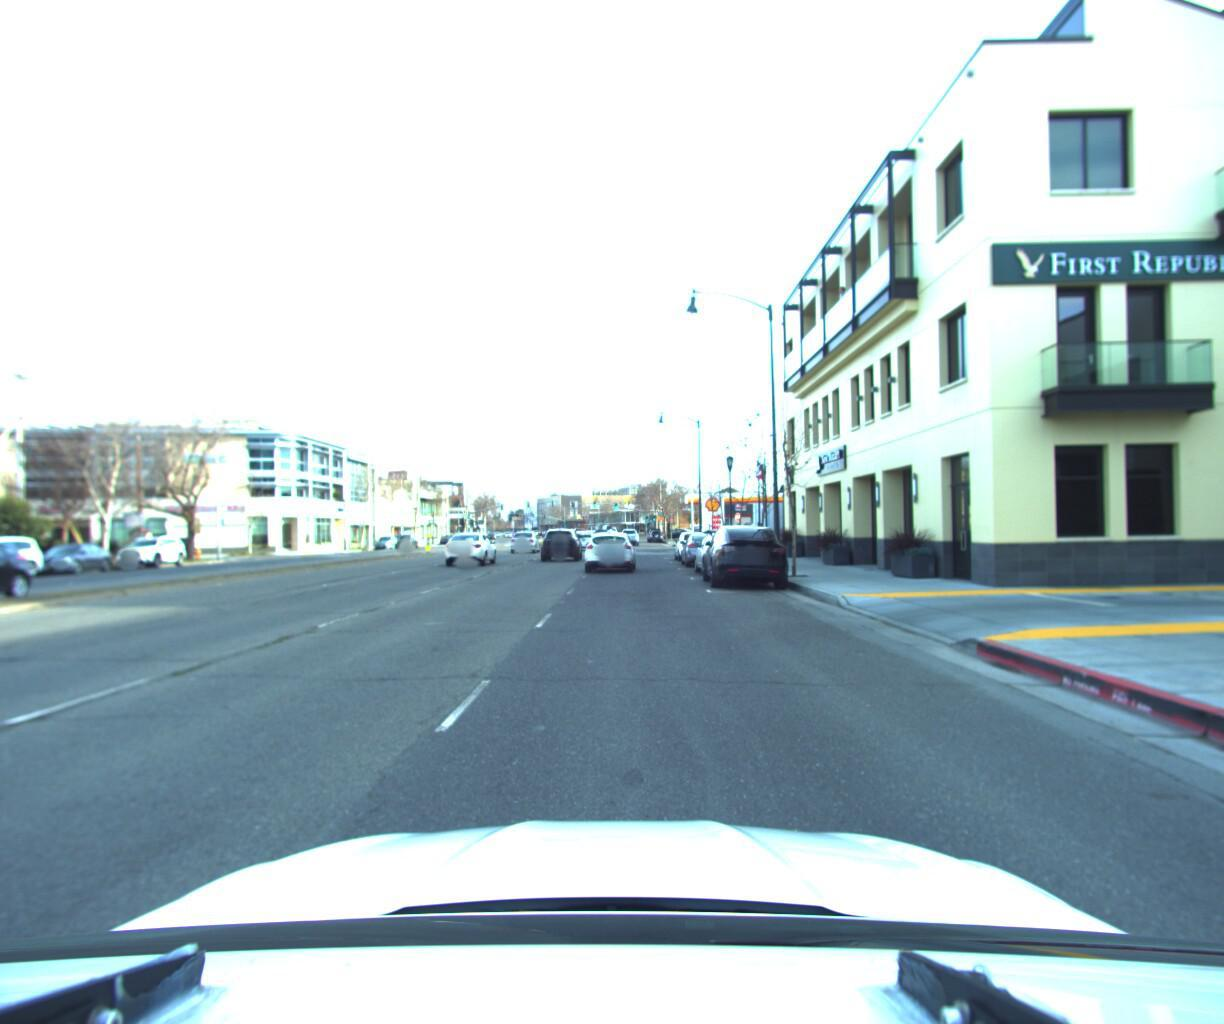car: (703, 518, 792, 585), (23, 539, 123, 577), (694, 521, 760, 573), (111, 531, 193, 568), (582, 525, 636, 569), (441, 524, 499, 563), (681, 527, 728, 563), (539, 520, 583, 558), (673, 525, 712, 557), (508, 530, 542, 550), (390, 531, 418, 547), (619, 524, 640, 542)
